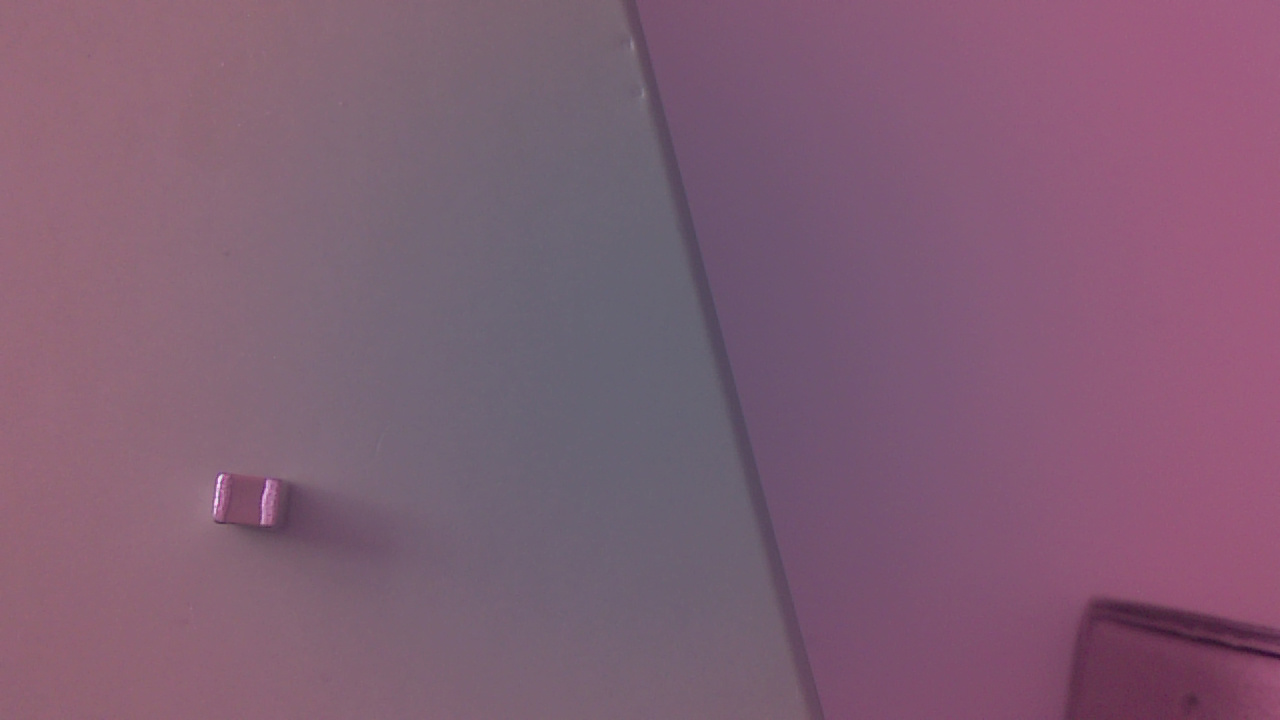Condensator: (212, 473, 296, 542)
